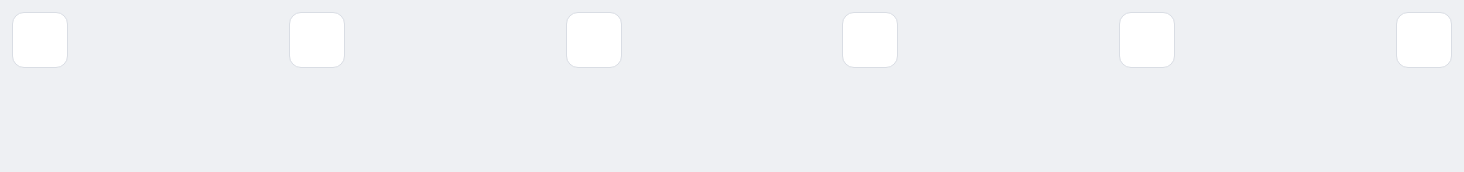
Test: OtpInput › accepte un code collé et ignore les caractères non numériques
Click the field named "Chiffre 1" at {"x": 40, "y": 40}, box left=12, top=12, right=68, bottom=68
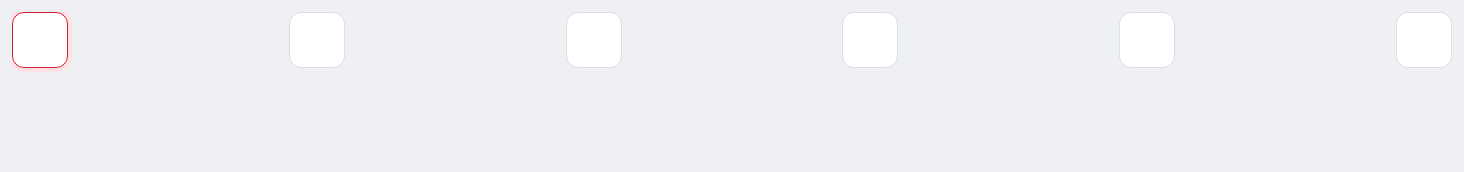
Type keys "12-34 56"
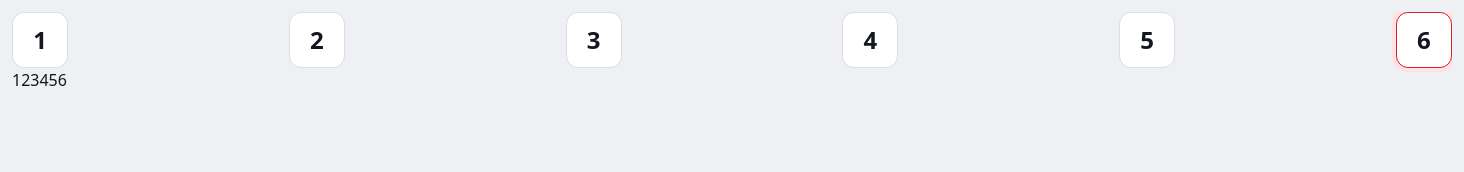
Expected: the text with test id "value" reads "123456", left=12, top=69, right=67, bottom=91
